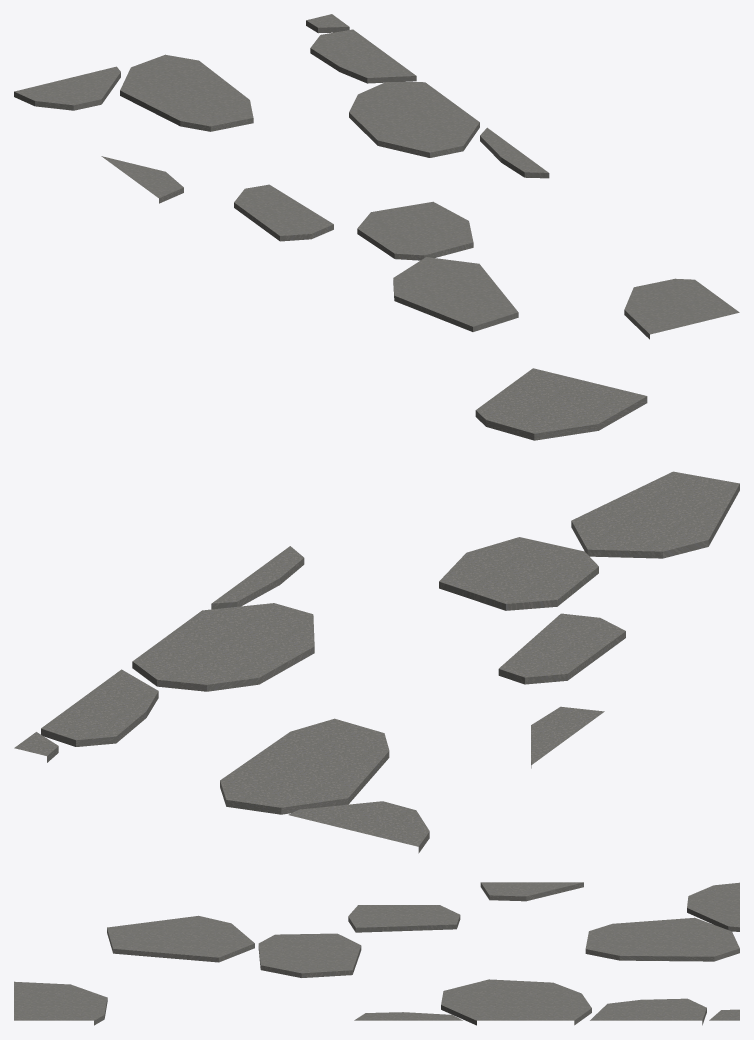
The model's file is kd_stage_135b75_4_45.glb.
3 renders of one model, top to bottom at view 1: azimuth 30°, elevation 25°; view 2: azimuth 150°, elevation 25°; view 3: azimuth 270°, elevation 25°, orthographic. The views are drawn at different scales.
Visible parts, largest first — view 1: kd_stage_135b75_4_45; view 2: kd_stage_135b75_4_45; view 3: kd_stage_135b75_4_45.
Part boxes in pixels (x1=…): kd_stage_135b75_4_45: x1=14, y1=14, x2=739, y2=339; kd_stage_135b75_4_45: x1=14, y1=368, x2=739, y2=853; kd_stage_135b75_4_45: x1=14, y1=882, x2=739, y2=1025.
Size of the model in its own units: 1.4 by 0.0228 by 3.1.
1 material, 1 textured.
